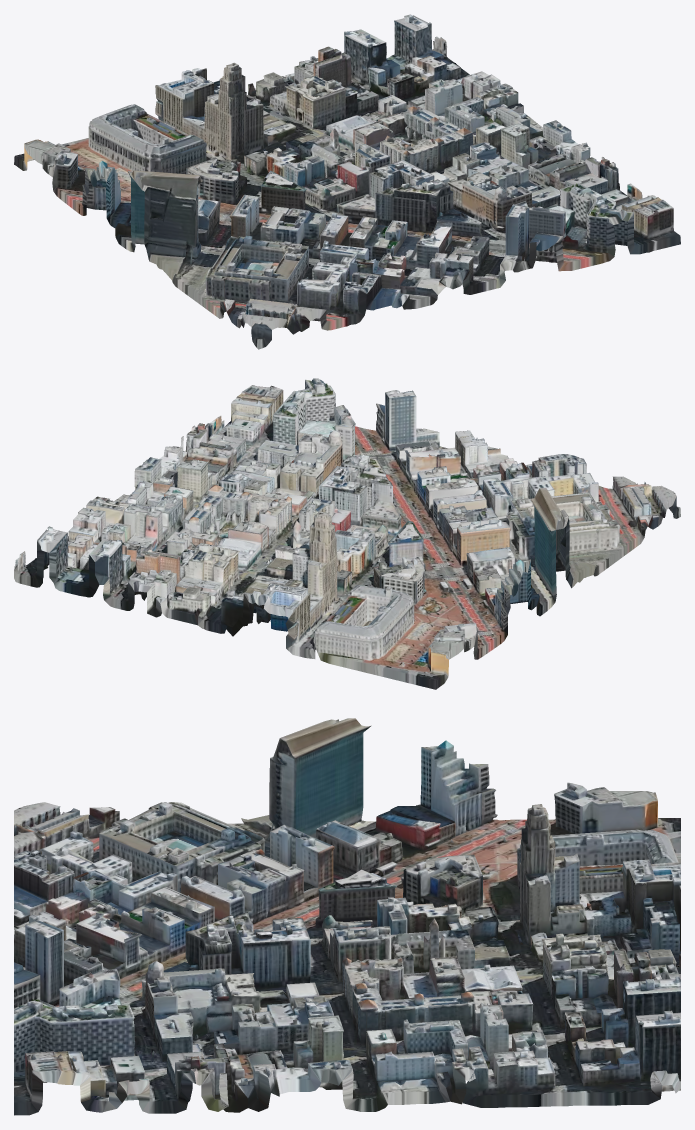
File: z16-10483-25329-h0-yup-uvflip-v3-world.glb
3 views of the same model, one above another, from view 1: azimuth 30°, elevation 25°; view 2: azimuth 150°, elevation 25°; view 3: azimuth 270°, elevation 25° (orthographic). The views are drawn at different scales.
Bounding box in the file's own units: 484 × 113 × 485.
Materials: 1 (1 with a texture image).
